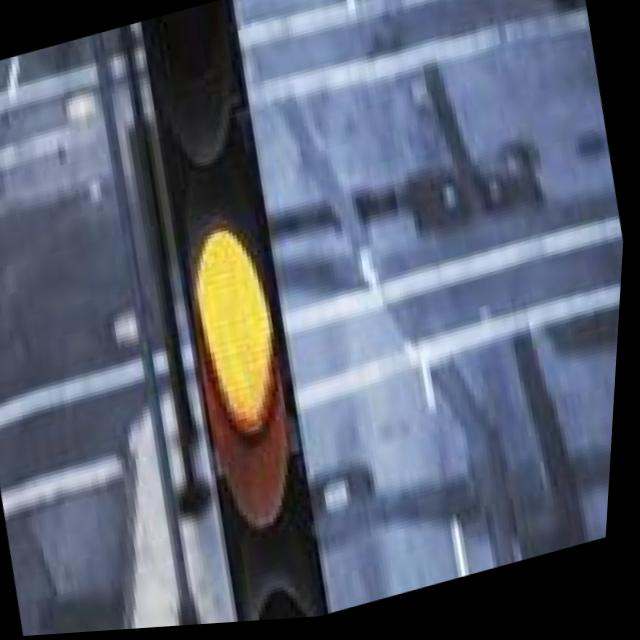yellow_light: (157, 184, 352, 471)
